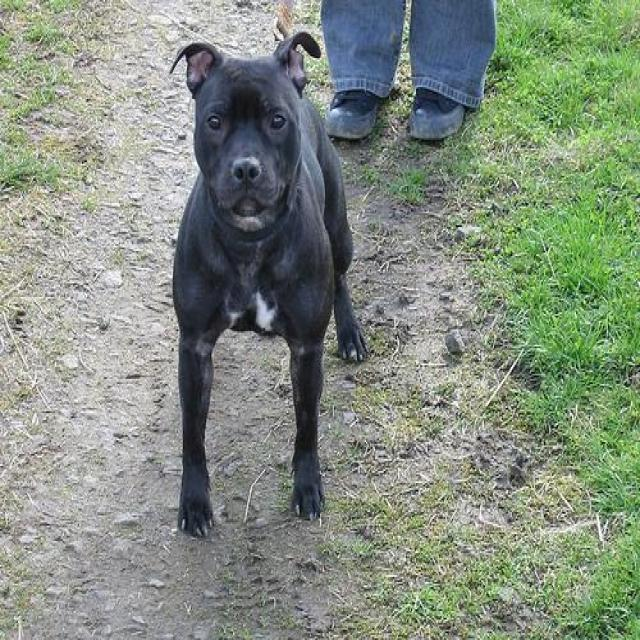staffordshire_bullterrier: (166, 29, 372, 543)
